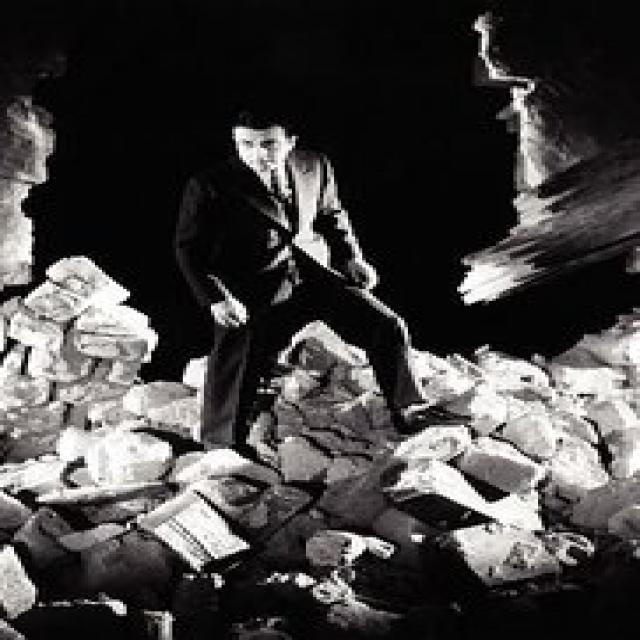picture: (7, 11, 635, 638)
